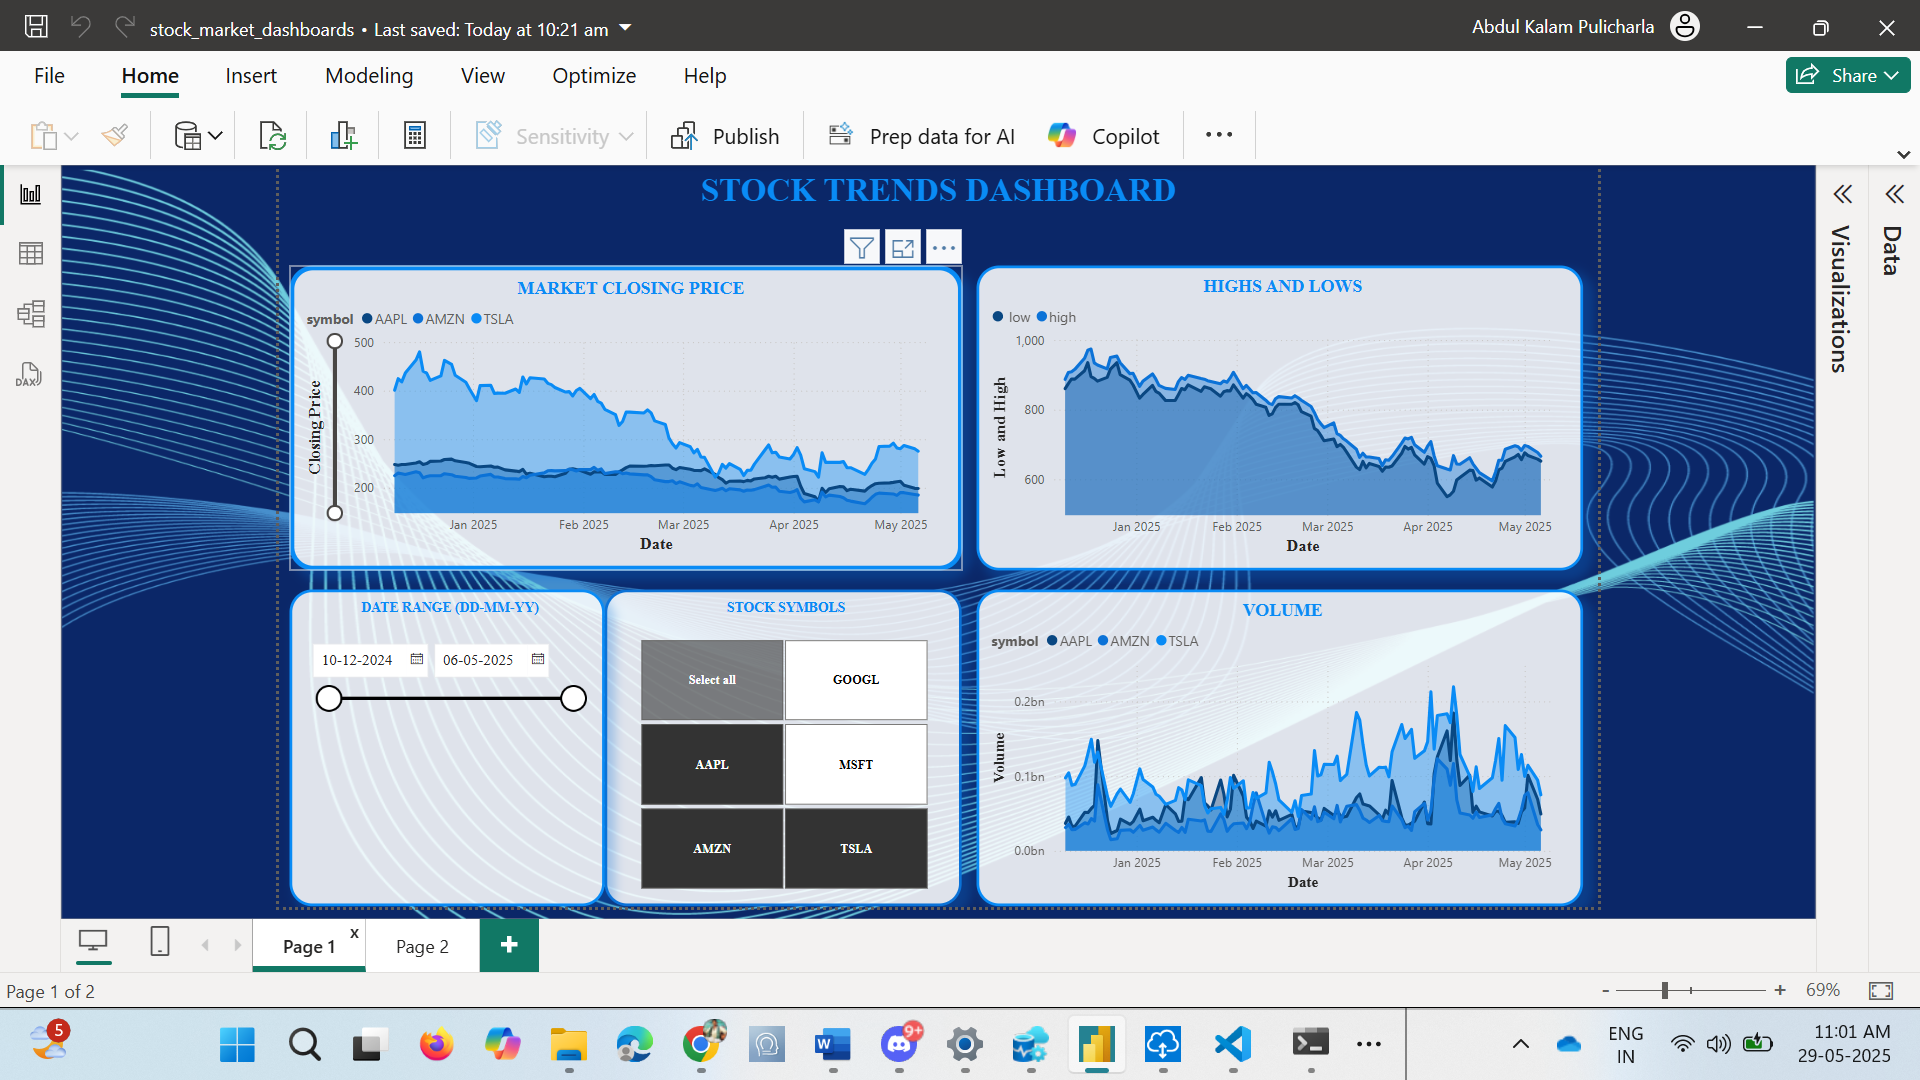

The dashboard page shown, as its layout file describes it:
{"tool":"powerbi","page":{"name":"Page 1","canvas":[1280,720],"ordinal":0},"visuals":[{"type":"lineChart","title":"MARKET CLOSING PRICE","fields":{"Category":["public stock_history.date"],"Y":["Sum(public stock_history.close)"],"Series":["public stock_history.symbol"]},"box":[10.2,97.7,653.1,295.9],"z":0},{"type":"slicer","title":"STOCK SYMBOLS","fields":{"Values":["public stock_history.symbol"]},"box":[316.4,412.6,347,307.6],"z":1000},{"type":"slicer","title":"DATE RANGE (DD-MM-YY)","fields":{"Values":["public stock_history.date"]},"box":[10.2,412.6,306.2,307.6],"z":2000},{"type":"textbox","box":[109.3,0,1061.3,78.7],"z":3000},{"type":"lineChart","title":"HIGHS AND LOWS","fields":{"Category":["public stock_history.date"],"Y":["Sum(public stock_history.low)","Sum(public stock_history.high)"]},"box":[676.4,97.7,589,295.9],"z":4000},{"type":"lineChart","title":"VOLUME ","fields":{"Category":["public stock_history.date"],"Y":["Sum(public stock_history.volume)"],"Series":["public stock_history.symbol"]},"box":[676.4,412.6,589,307.6],"z":5000}]}

Visuals, with their boxes on the page's 1280x720 design canvas (x1, y1, x2, y2). These are canvas units, not pixel positions in the 1920x1080 screenshot, which may show the page scaled, cropped or inside an application window:
"MARKET CLOSING PRICE" lineChart: Rect(10, 98, 663, 394)
"STOCK SYMBOLS" slicer: Rect(316, 413, 663, 720)
"DATE RANGE (DD-MM-YY)" slicer: Rect(10, 413, 316, 720)
textbox: Rect(109, 0, 1171, 79)
"HIGHS AND LOWS" lineChart: Rect(676, 98, 1265, 394)
"VOLUME " lineChart: Rect(676, 413, 1265, 720)
